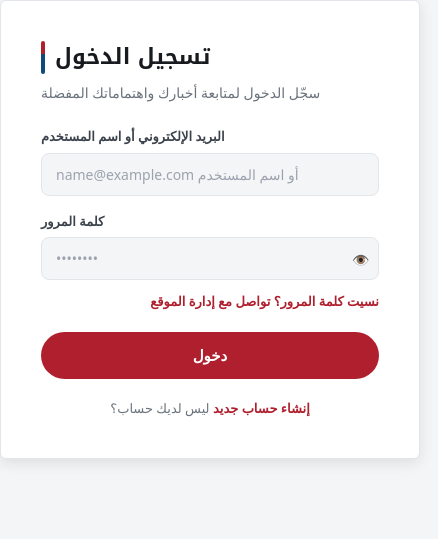
LoginForm › names the failure a reader can act on when the password is wrong
The width and height of the screenshot is (438, 539).
In the field labelled "البريد الإلكتروني أو اسم المستخدم": (210, 174) [41,152,379,196], type "m.eladawy"
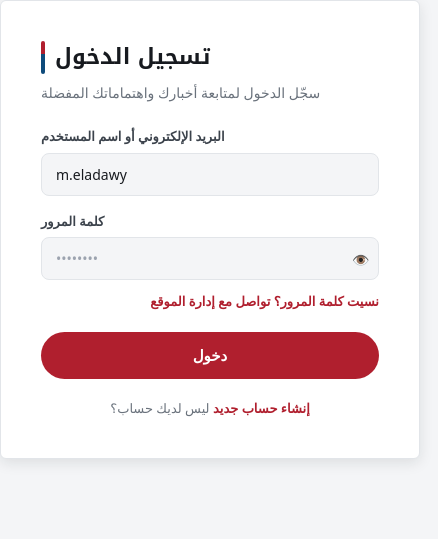
In the password field labelled "كلمة المرور": (210, 258) [41,237,379,280], type "hunter2"
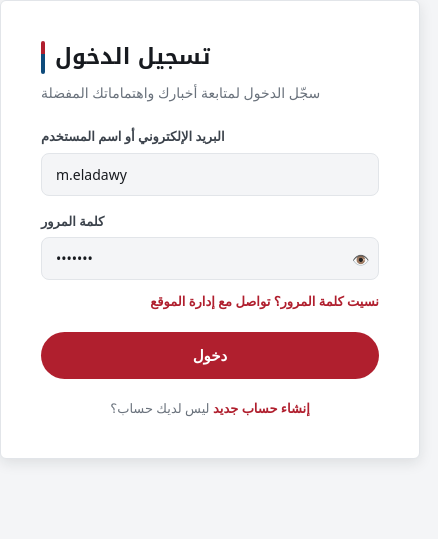
Click the button "دخول": click(210, 355) [41,332,379,378]
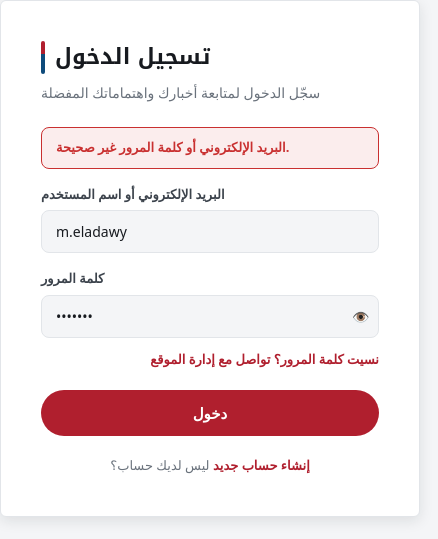
Expected: the message reads "البريد الإلكتروني أو كلمة المرور غير صحيحة.", [56,138,289,156]
